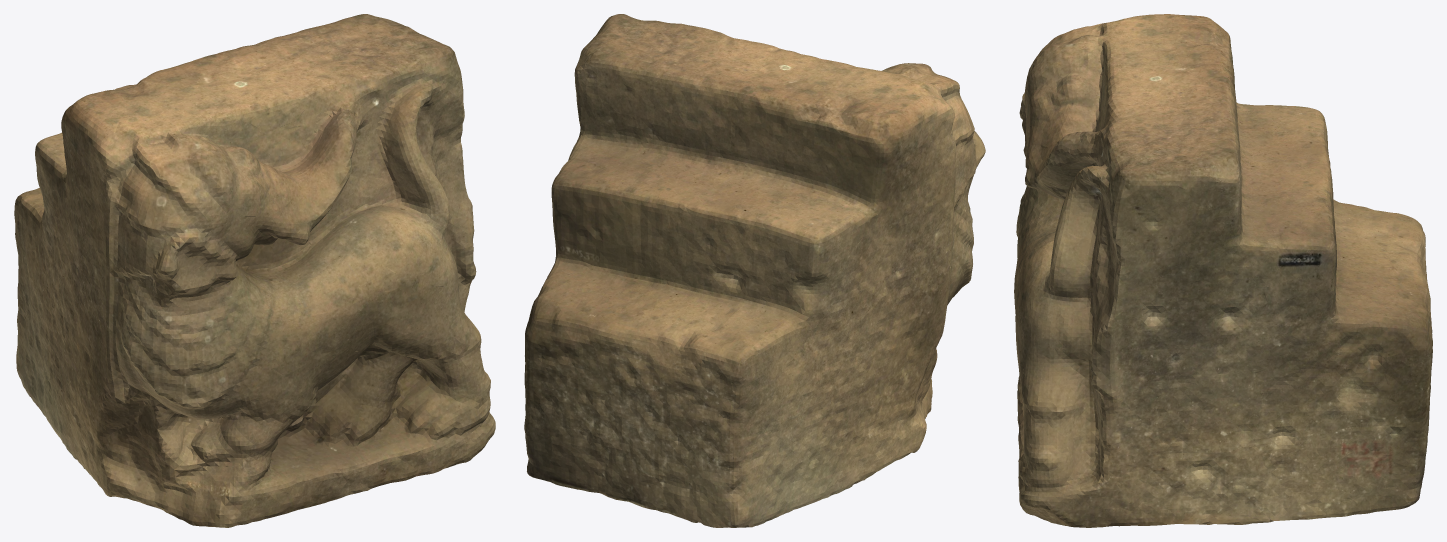
File: 39_MysonSanctuaryD2_Sutuvoi_final.glb
3 renders of one model, left to right at view 1: azimuth 30°, elevation 25°; view 2: azimuth 150°, elevation 25°; view 3: azimuth 270°, elevation 25°, orthographic. The views are drawn at different scales.
Size of the model in its own units: 0.4298 by 0.4337 by 0.4402.
Materials: 1 (1 with a texture image).
